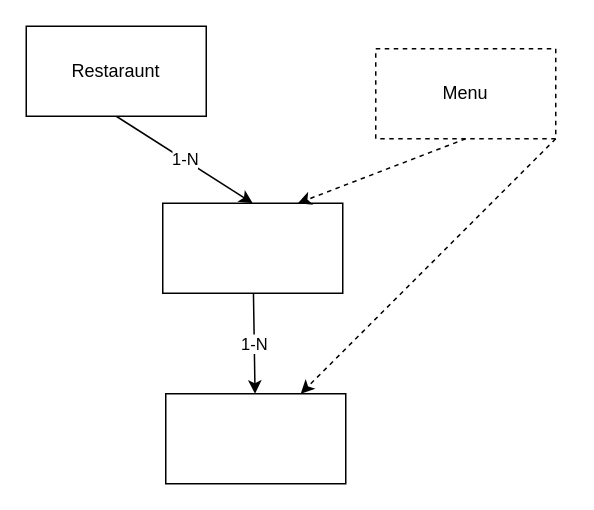
Some shapes in this 594 by 510 pixel diagram are drawn without their labels. The centre of each missing label's shape, as x and y in pixels:
Category: the point at 252,247
Dish: the point at 255,438
